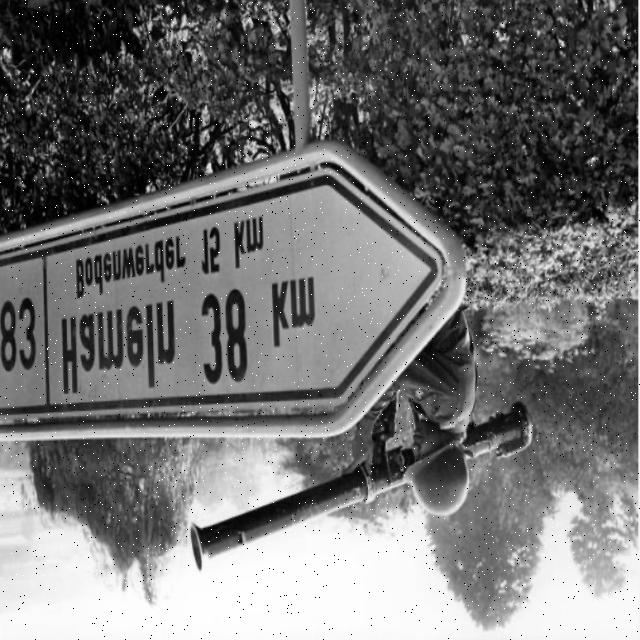bazooka: (185, 396, 544, 586)
